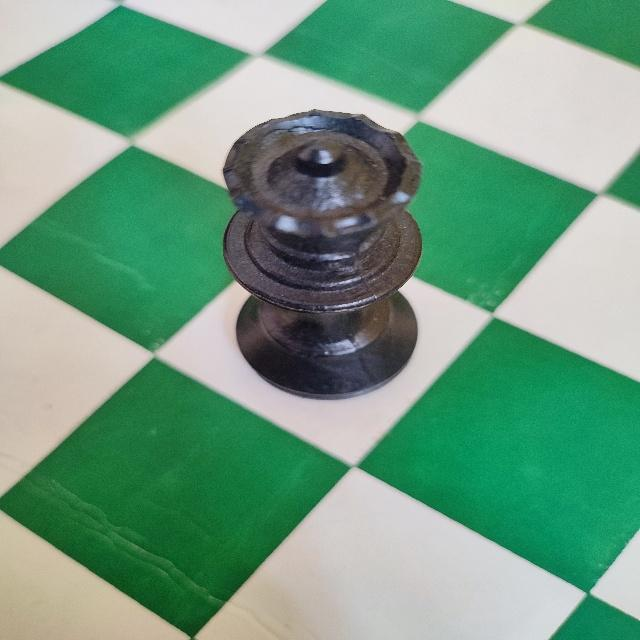Queen: (217, 104, 427, 406)
